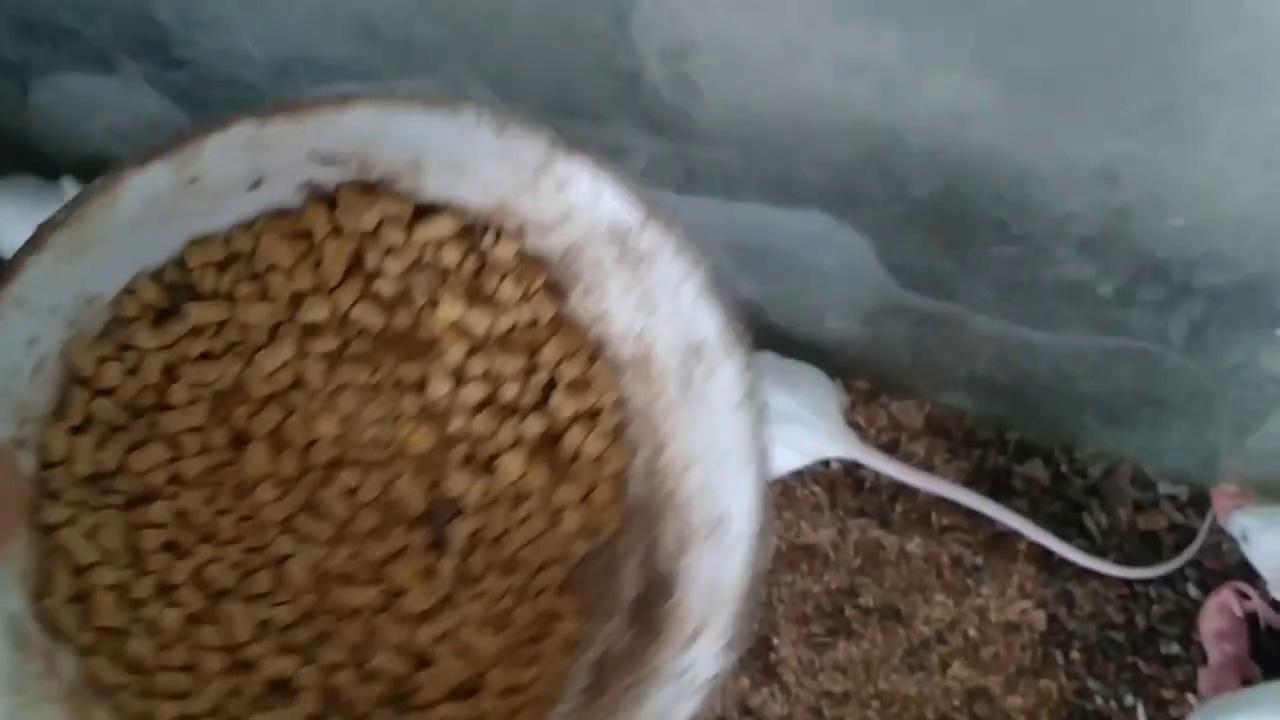rat: (748, 349, 853, 488), (1193, 579, 1261, 698), (1222, 505, 1280, 605)
